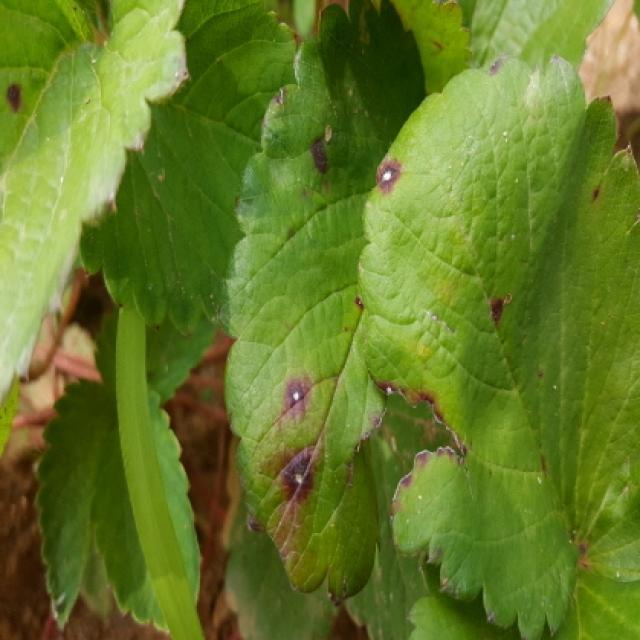Leaf Spot: (355, 52, 638, 638), (219, 0, 429, 604)
